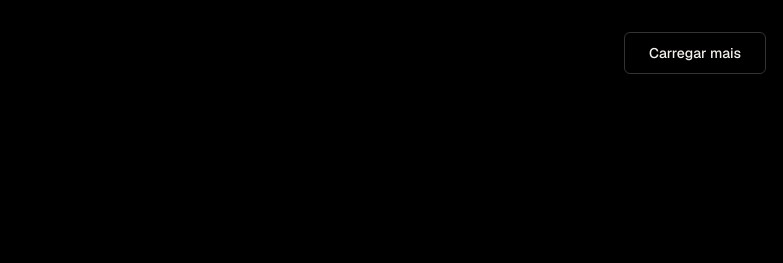
busca a próxima página e mostra os filmes
This screenshot has width=783, height=263.
Click the button "Carregar mais": (695, 53) [624,32,766,74]
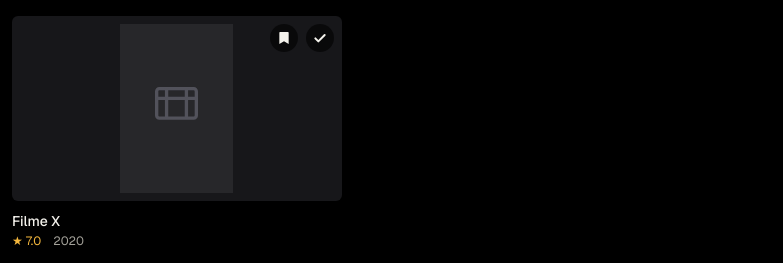
Check: the heading "Filme X" is shown, box [12,212,60,230]
Check: the button "Carregar mais" is gone
